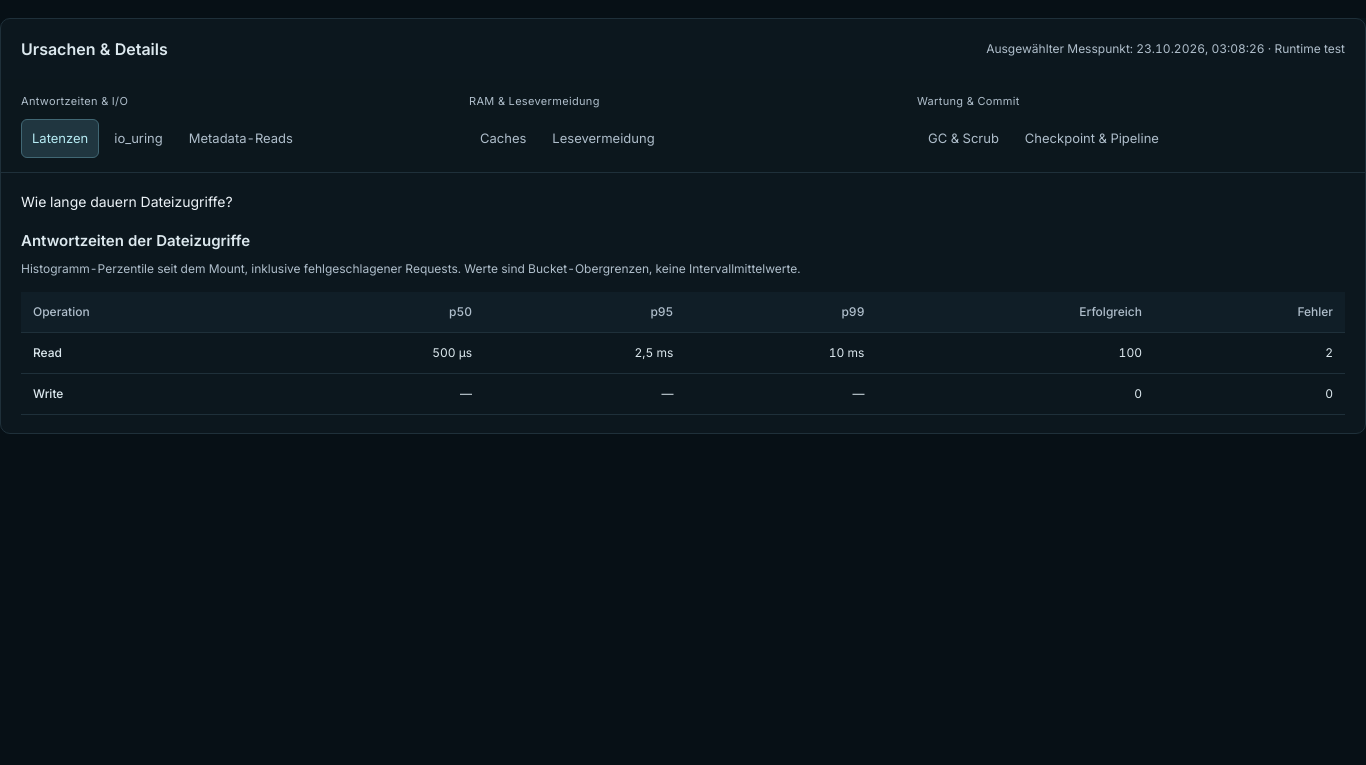
Scenario: shows the shared budget, DATA priority tier and pending donor reservation in historical samples
Click the tab "Caches" at (503, 138), box [469, 118, 537, 158]
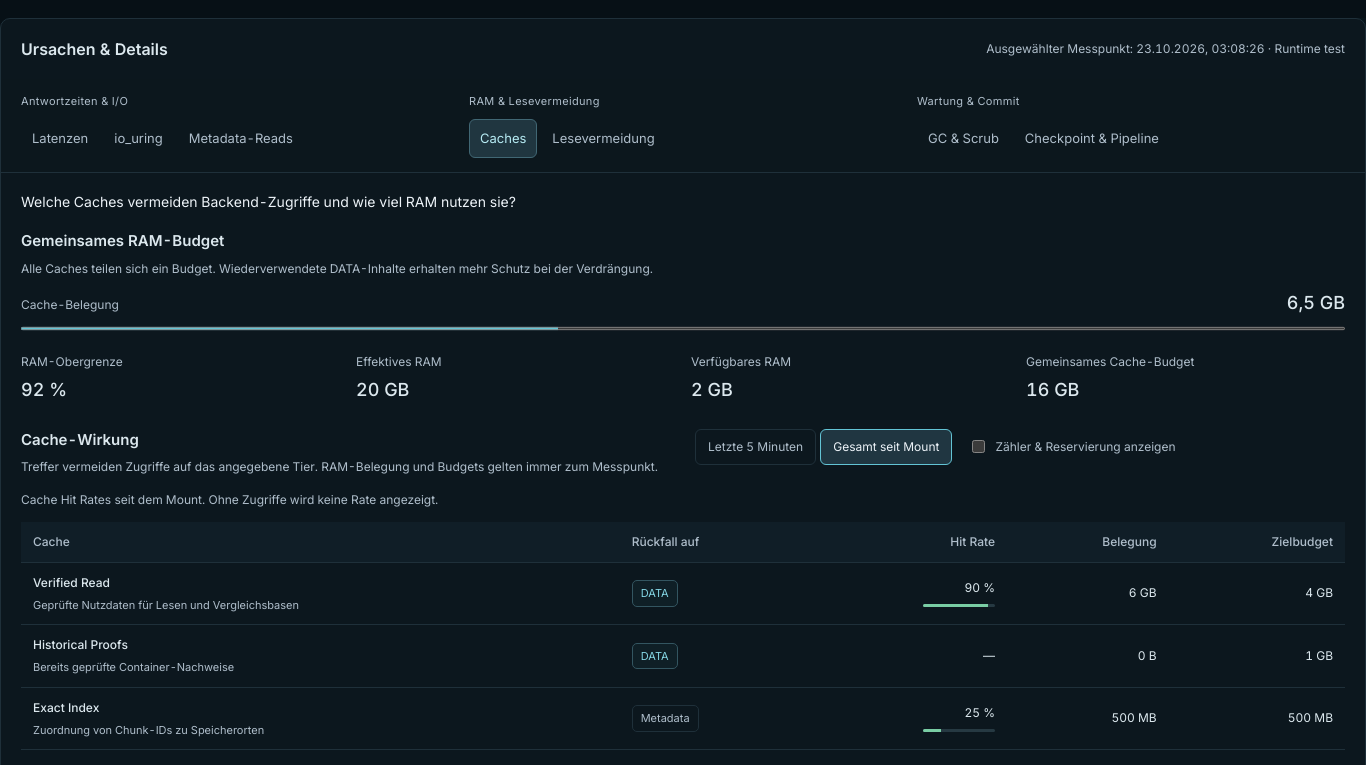
expect the text "92 %" is shown: met, box [21, 379, 67, 400]
expect the text "16 GB" is shown: met, box [1026, 379, 1079, 400]
expect the text "DATA" in the row of "Verified Read" is shown: met, box [641, 586, 669, 600]
Click the checkbox labelled "Zähler & Reservierung anzeigen" at (979, 447), box [972, 440, 985, 453]
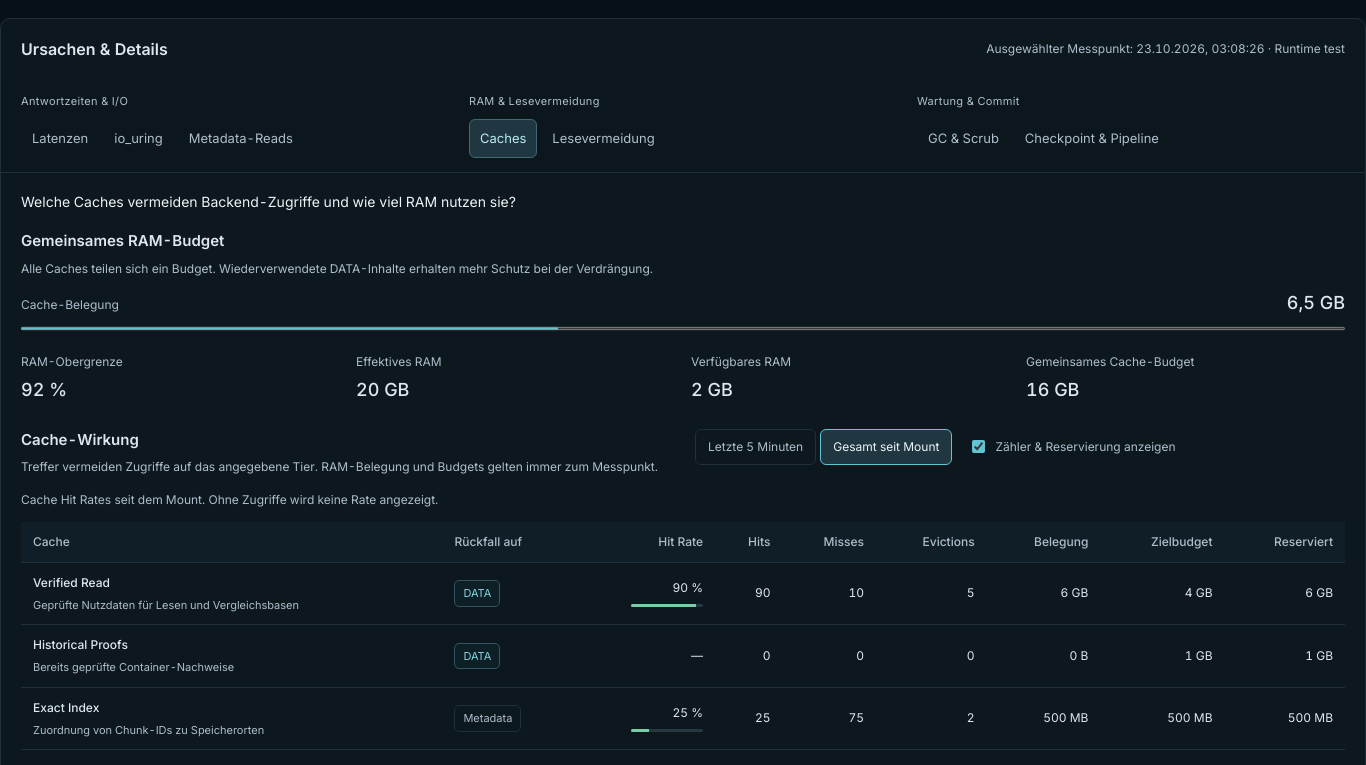
expect the text "—" is shown: met, box [691, 648, 703, 663]
expect the text "Metadata" is shown: met, box [454, 705, 521, 732]
expect the text "6 GB" is shown 2 times: met, box [987, 562, 1100, 625]; [1224, 562, 1345, 625]
